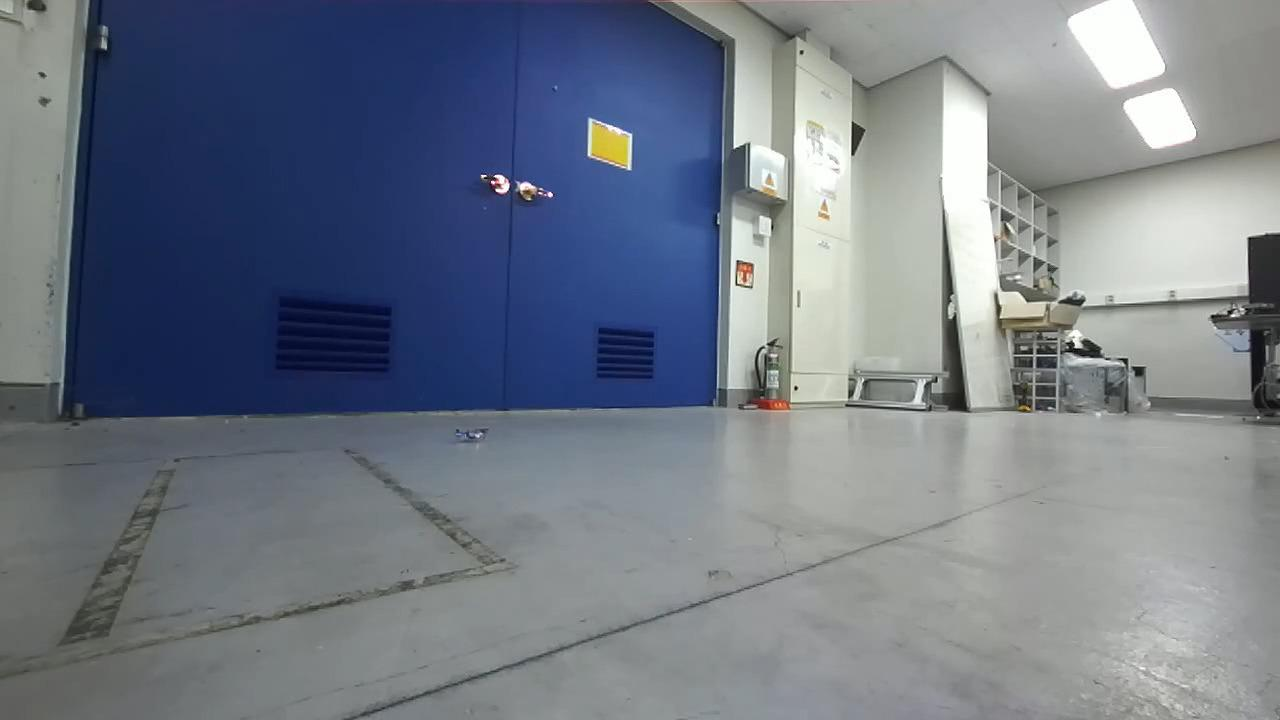crazyflie: (450, 422, 491, 447)
